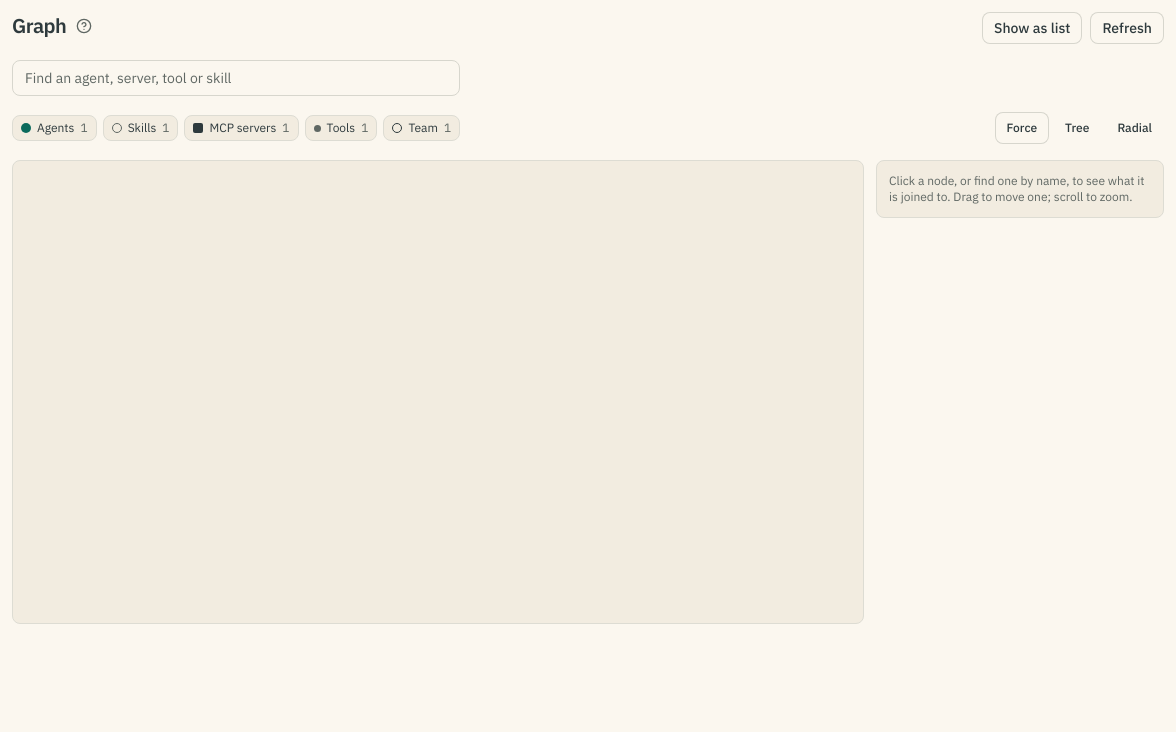
finding a node › opens the node picked from the matches
The width and height of the screenshot is (1176, 732).
In the search field named "find in the graph": (236, 78) x1=12 y1=60 x2=460 y2=96, type "tri"
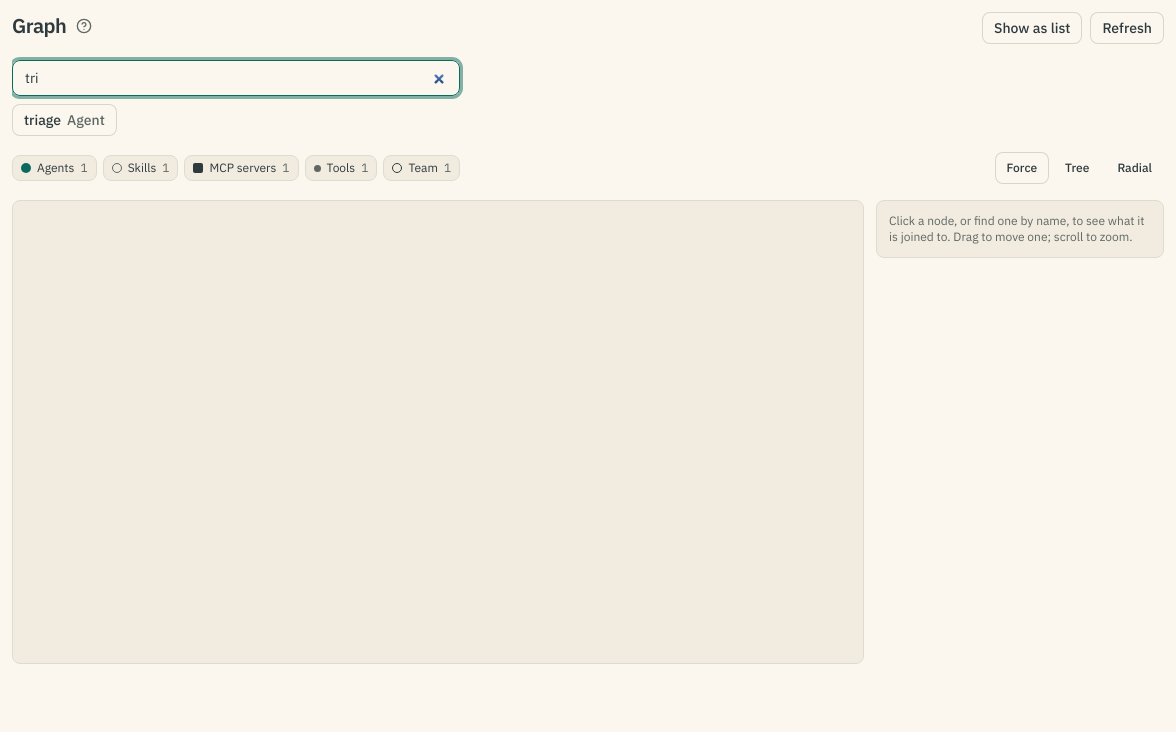
Click the button "triage Agent": (64, 120) x1=12 y1=104 x2=117 y2=136
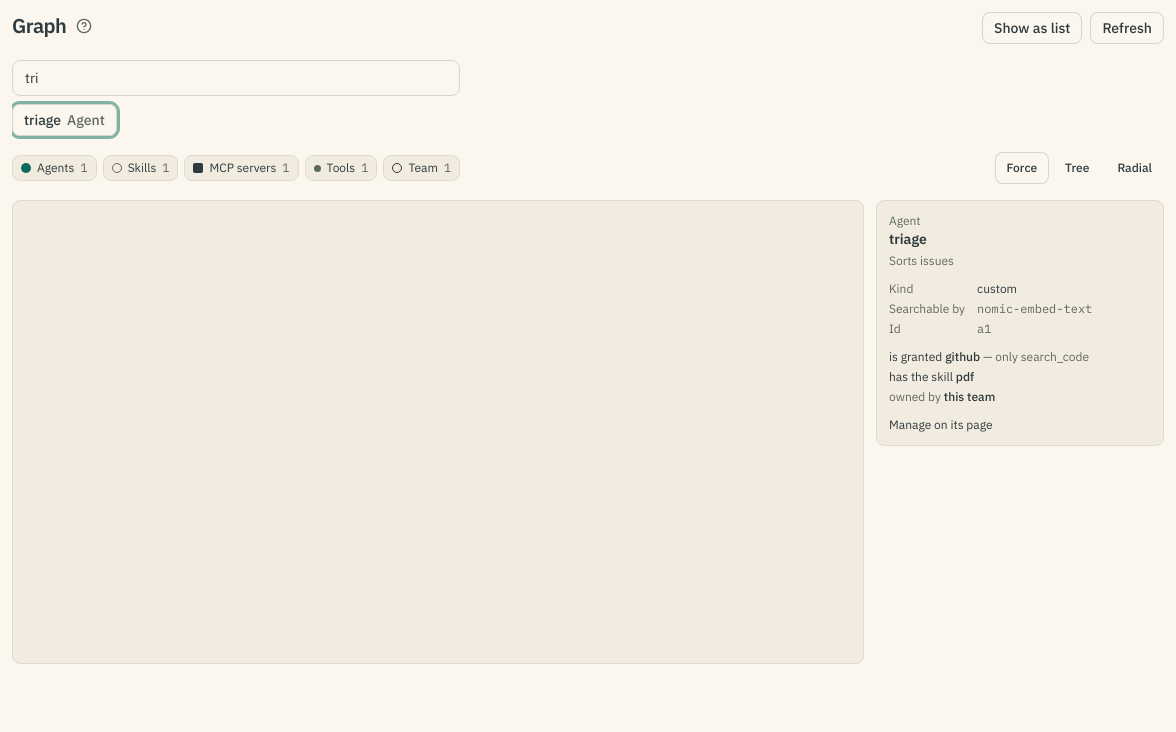
Now the heading "triage" is shown, box x1=889 y1=230 x2=927 y2=248
